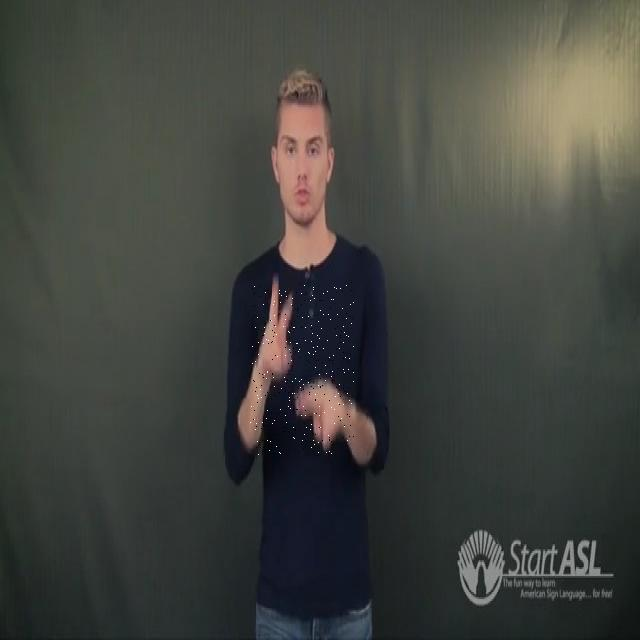salt: (250, 282, 354, 457)
